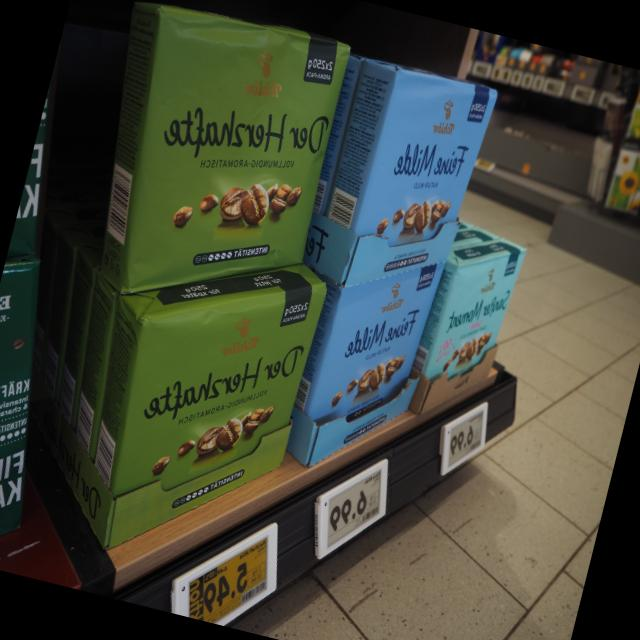Empty Shelf: (453, 95, 571, 257)
FM Gemahlen: (339, 65, 500, 289), (299, 259, 449, 455)
Herzhatfe Mundig: (119, 0, 353, 298), (104, 280, 329, 544)
SM Gemahlen: (413, 246, 528, 413)
